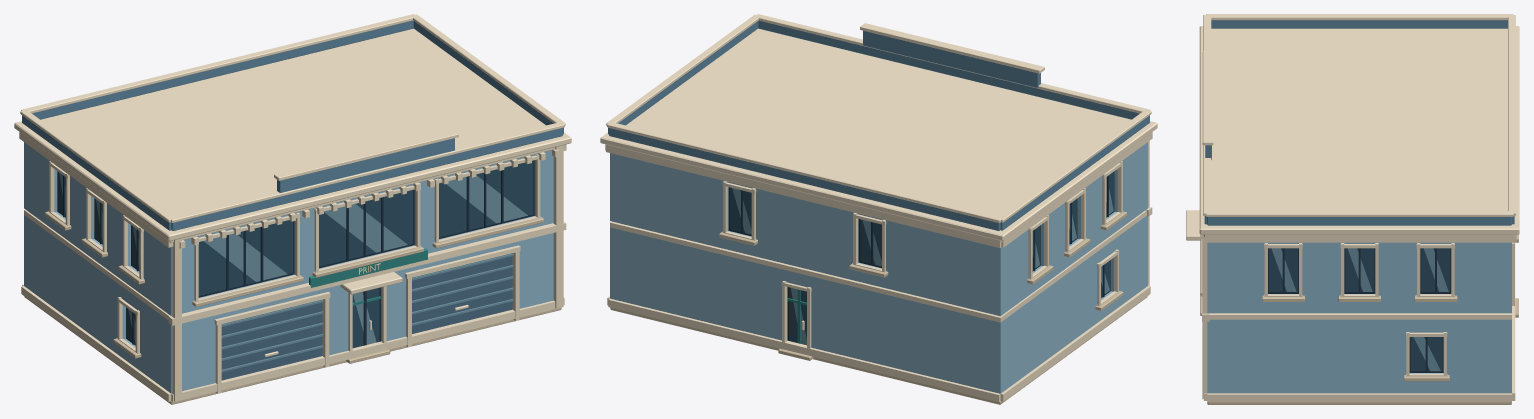
Rendered from print_workshop.glb.
3 renders of one model, left to right at view 1: azimuth 30°, elevation 25°; view 2: azimuth 150°, elevation 25°; view 3: azimuth 270°, elevation 25°, orthographic. The views are drawn at different scales.
Parts seen in each view (by area): view 1: PrintWorkshop_StaticMesh; view 2: PrintWorkshop_StaticMesh; view 3: PrintWorkshop_StaticMesh.
Boxes of the visible parts, left/top/right/bottom form: PrintWorkshop_StaticMesh: left=14, top=14, right=571, bottom=404; PrintWorkshop_StaticMesh: left=600, top=14, right=1157, bottom=404; PrintWorkshop_StaticMesh: left=1186, top=14, right=1519, bottom=404.
Bounding box in the file's own units: 16.12 × 7.76 × 11.17.
